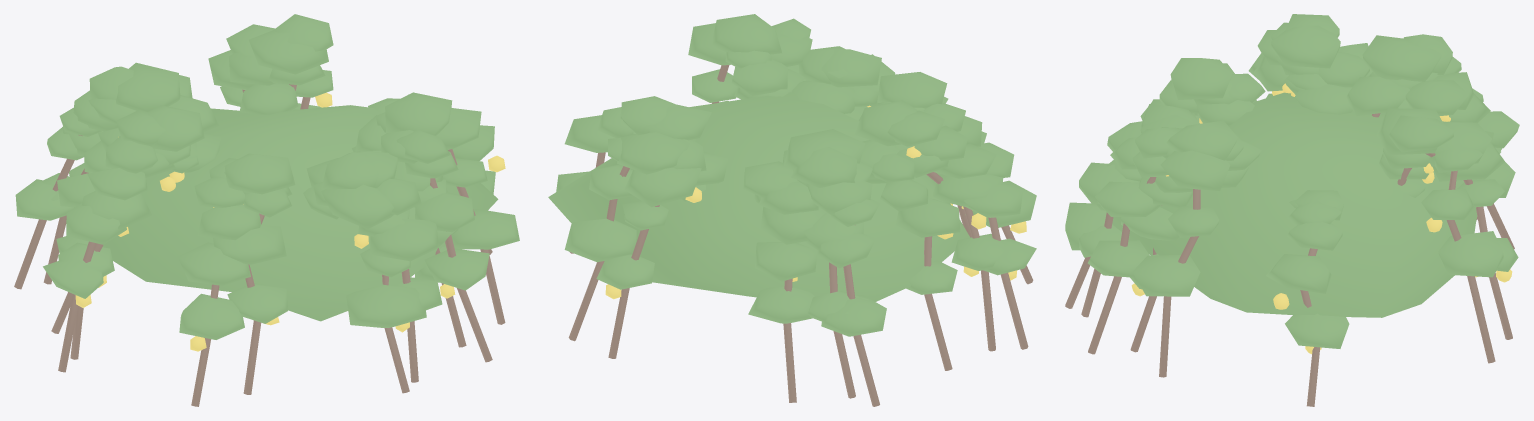
The model's file is Blender_Bramble_2.glb.
3 renders of one model, left to right at view 1: azimuth 30°, elevation 25°; view 2: azimuth 150°, elevation 25°; view 3: azimuth 270°, elevation 25°, orthographic.
Parts seen in each view (by area): view 1: Blender_Bramble_2; view 2: Blender_Bramble_2; view 3: Blender_Bramble_2.
Boxes of the visible parts, box(x1,y1,x2,y2) form: Blender_Bramble_2: box(14, 14, 519, 406); Blender_Bramble_2: box(548, 14, 1036, 406); Blender_Bramble_2: box(1065, 14, 1519, 406).
Size of the model in its own units: 2.3 by 1.09 by 1.98.
